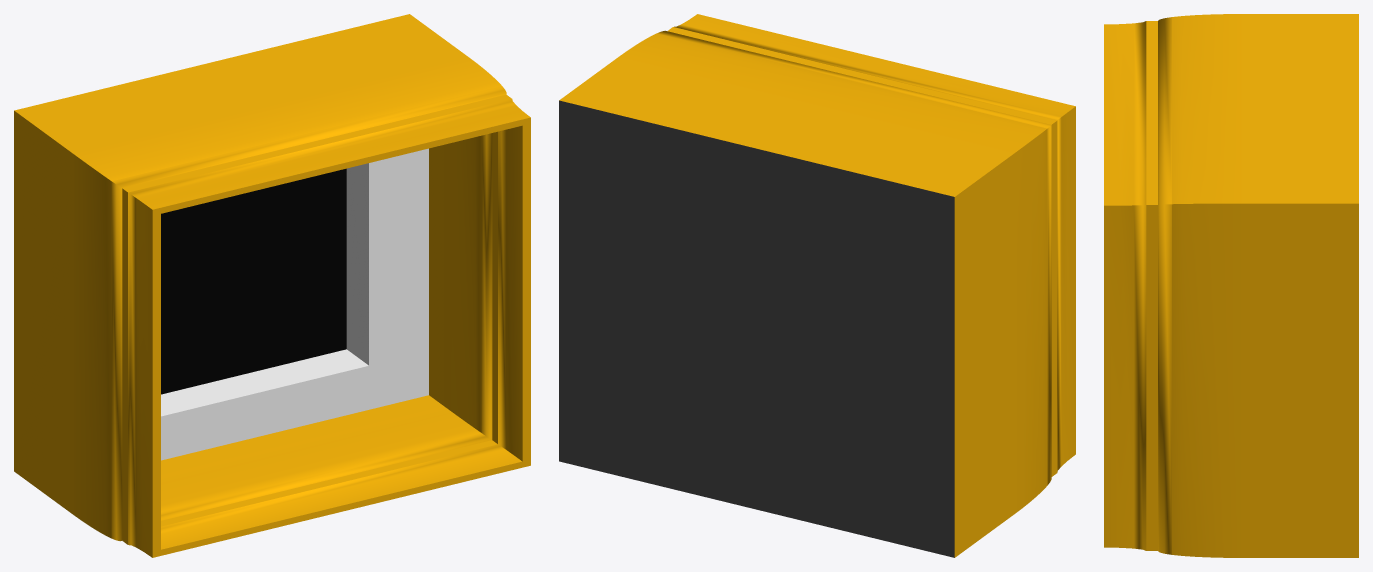
Rendered from Frame11_gold.glb.
3 renders of one model, left to right at view 1: azimuth 30°, elevation 25°; view 2: azimuth 150°, elevation 25°; view 3: azimuth 270°, elevation 25°, orthographic.
Visible parts, largest first — view 1: Empty, A_PaintingMesh; view 2: Empty; view 3: Empty.
Part boxes in pixels (box(x1,y1,x2,y2)): Empty: box(14, 14, 530, 557); A_PaintingMesh: box(161, 168, 346, 394); Empty: box(559, 14, 1075, 557); Empty: box(1104, 14, 1358, 557).
Bounding box in the file's own units: 1.76 × 1.54 × 1.
4 materials, 1 textured.
